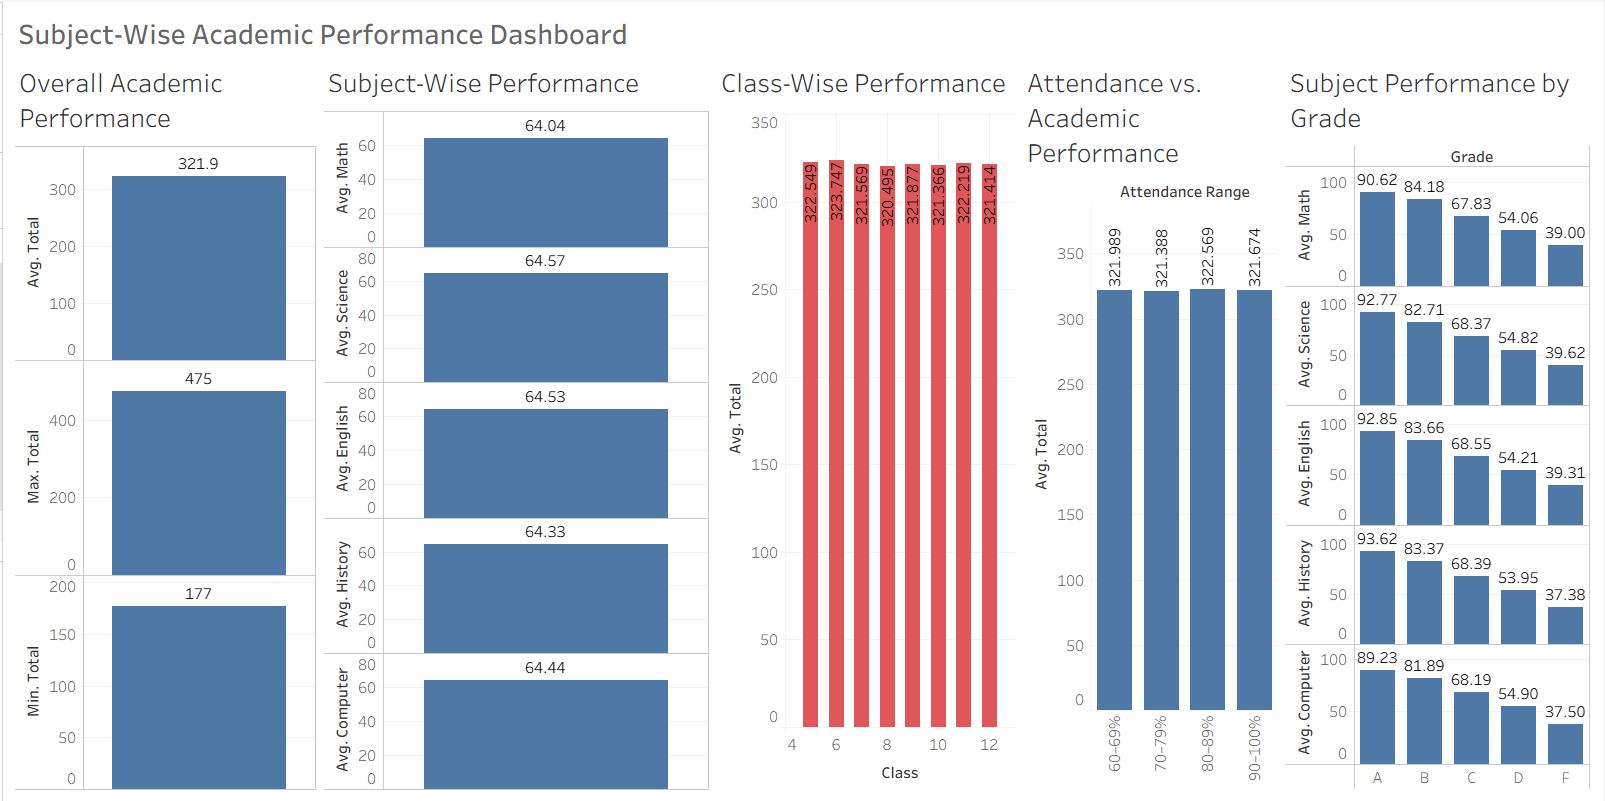

The dashboard page shown, as its layout file describes it:
{"tool":"tableau","page":{"name":"Subject-Wise Academic Performance Dashboard","canvas":[1600,800],"ordinal":0},"visuals":[{"type":"text","box":[8,8,1584,47]},{"type":"worksheet","title":"Overall Academic Performance","mark":"Automatic","rows":["Total","Total","Total"],"box":[8,55,309,737]},{"type":"worksheet","title":"Subject-Wise Performance","mark":"Automatic","rows":["Math","Science","English","History","Computer"],"box":[317,55,393,737]},{"type":"worksheet","title":"Class-Wise Performance","mark":"Bar","rows":["Total"],"cols":["Class"],"box":[710,55,306,737]},{"type":"worksheet","title":"Attendance vs. Academic Performance","mark":"Bar","rows":["Total"],"cols":["Calculation_1926385458221057"],"box":[1016,55,262.6,737]},{"type":"worksheet","title":"Subject Performance by Grade","mark":"Bar","rows":["Math","Science","English","History","Computer"],"cols":["Grade"],"box":[1278.6,55,313.3,737]}]}

Visuals, with their boxes in screenshot pixels (x1, y1, x2, y2), scaled from the page's 1600x800 canvas onto the 1605x801 screenshot:
text: (8, 8, 1597, 55)
"Overall Academic Performance" worksheet: (8, 55, 318, 793)
"Subject-Wise Performance" worksheet: (318, 55, 712, 793)
"Class-Wise Performance" worksheet (Bar marks): (712, 55, 1019, 793)
"Attendance vs. Academic Performance" worksheet (Bar marks): (1019, 55, 1283, 793)
"Subject Performance by Grade" worksheet (Bar marks): (1283, 55, 1597, 793)
